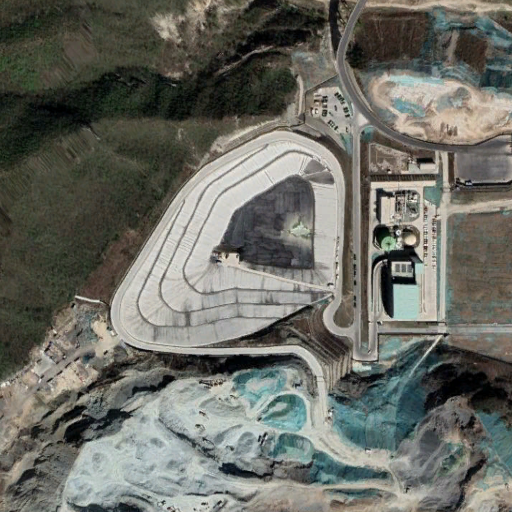lf: (113, 129, 343, 347)
